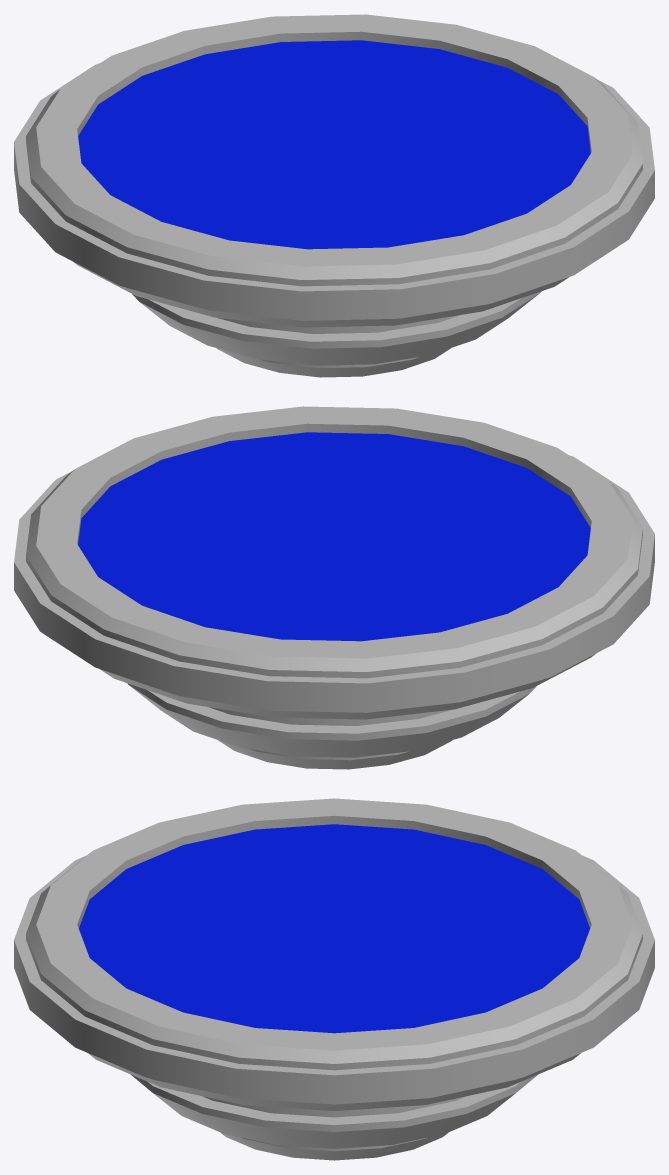
Rendered from statue stand.fbx.
3 renders of one model, top to bottom at view 1: azimuth 30°, elevation 25°; view 2: azimuth 150°, elevation 25°; view 3: azimuth 270°, elevation 25°, orthographic.
Parts seen in each view (by area): view 1: stand; view 2: stand; view 3: stand.
Part boxes in pixels (x1,y1,x2,y2): stand: [14, 14, 654, 377]; stand: [14, 406, 654, 769]; stand: [14, 798, 654, 1160].
Size of the model in its own units: 393 by 121 by 393.
